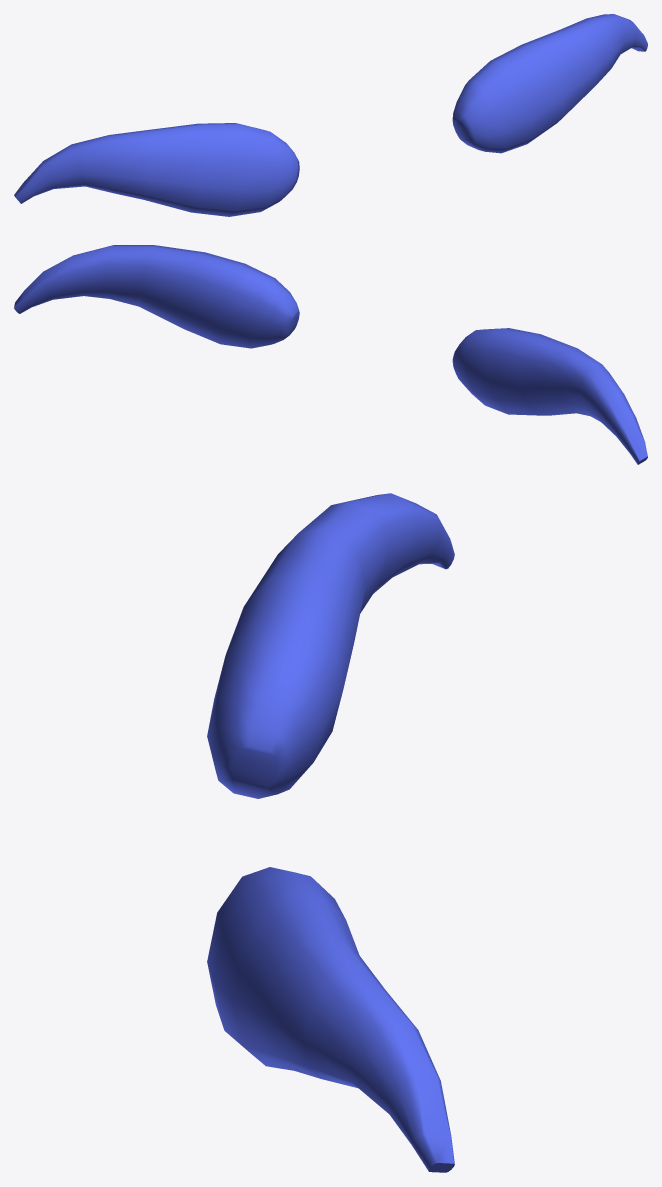
Rendered from Eyebrows_24_03.fbx.
3 renders of one model, top to bottom at view 1: azimuth 30°, elevation 25°; view 2: azimuth 150°, elevation 25°; view 3: azimuth 270°, elevation 25°, orthographic. The views are drawn at different scales.
Visible parts, largest first — view 1: Eyebrows_24_03; view 2: Eyebrows_24_03; view 3: Eyebrows_24_03.
Boxes of the visible parts, box(x1,y1,x2,y2) form: Eyebrows_24_03: box(14, 14, 647, 216); Eyebrows_24_03: box(14, 245, 647, 464); Eyebrows_24_03: box(207, 493, 454, 1172).
Bounding box in the file's own units: 19.24 × 2.6 × 3.26.
